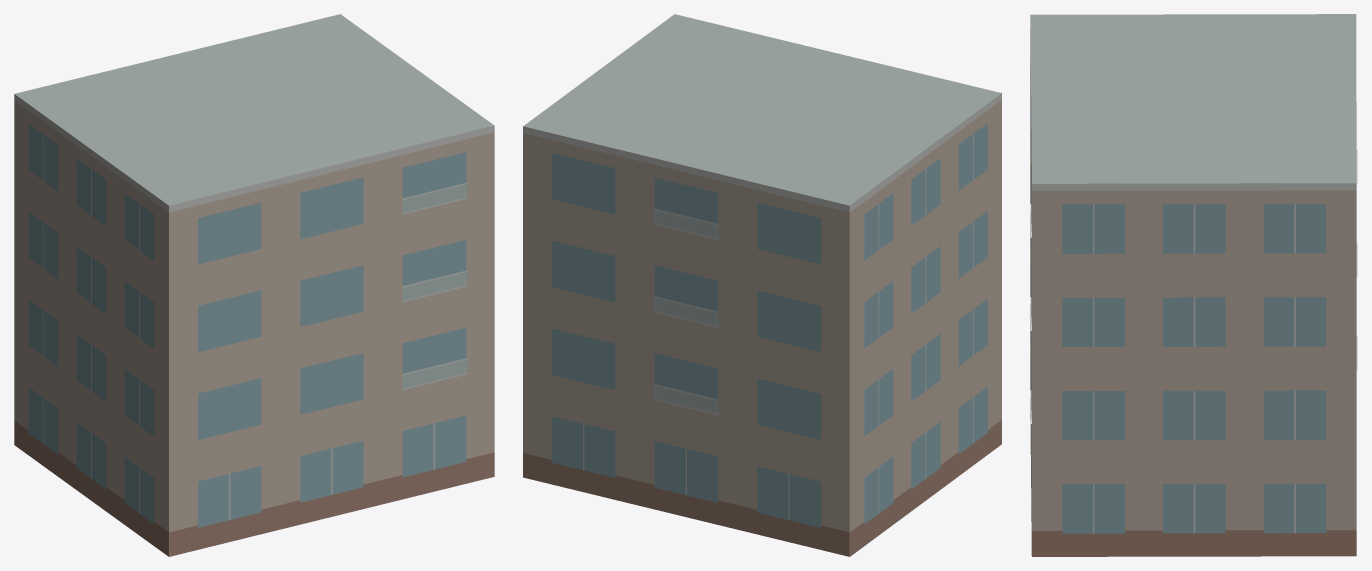
Rendered from survey-upis-32619829.glb.
The picture shows the model from 3 angles, left to right: view 1: azimuth 30°, elevation 25°; view 2: azimuth 150°, elevation 25°; view 3: azimuth 270°, elevation 25°; orthographic projection. The views are drawn at different scales.
Visible parts, largest first — view 1: survey-upis-32619829.tmp; view 2: survey-upis-32619829.tmp; view 3: survey-upis-32619829.tmp.
Part boxes in pixels (left/top/right/bottom): survey-upis-32619829.tmp: left=14, top=14, right=494, bottom=556; survey-upis-32619829.tmp: left=523, top=14, right=1001, bottom=556; survey-upis-32619829.tmp: left=1030, top=14, right=1357, bottom=556.
Bounding box in the file's own units: 12.51 × 12.8 × 10.19.
